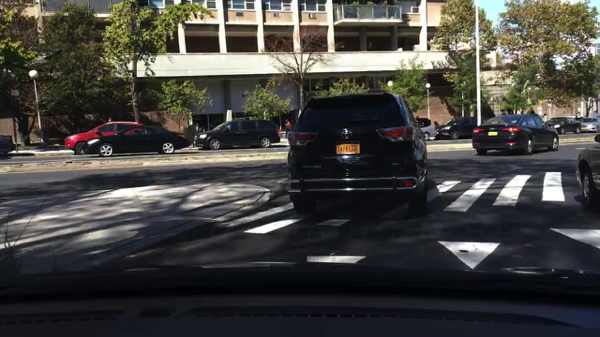car: (284, 92, 431, 218), (474, 113, 559, 157), (83, 124, 190, 158), (195, 118, 281, 150), (65, 121, 142, 155), (574, 132, 599, 212), (439, 116, 482, 140), (546, 116, 580, 136), (418, 117, 436, 141), (580, 116, 599, 133), (0, 134, 13, 158)
person: (284, 119, 291, 140)
traffic sign: (10, 89, 19, 96)
